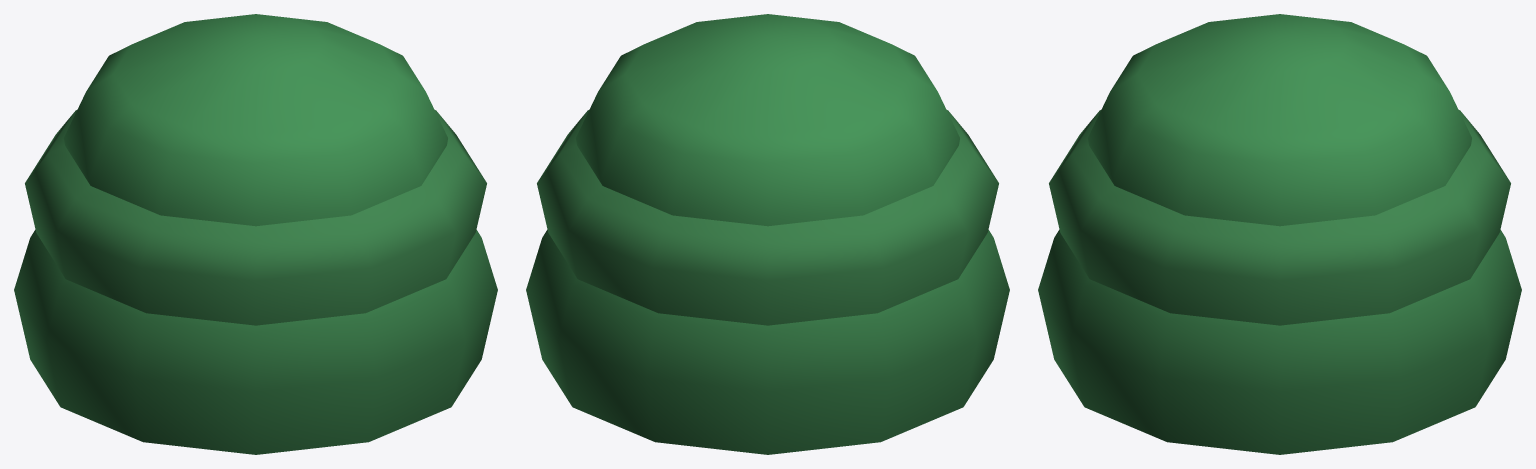
File: bush_round.fbx
3 views of the same model, side by side, from view 1: azimuth 30°, elevation 25°; view 2: azimuth 150°, elevation 25°; view 3: azimuth 270°, elevation 25° (orthographic).
Parts seen in each view (by area): view 1: bush_round; view 2: bush_round; view 3: bush_round.
Part boxes in pixels (box(x1,y1,x2,y2)): bush_round: box(14, 14, 497, 454); bush_round: box(526, 14, 1009, 454); bush_round: box(1038, 14, 1521, 454).
Size of the model in its own units: 2.51 by 1.85 by 2.51.
1 material, 1 textured.
